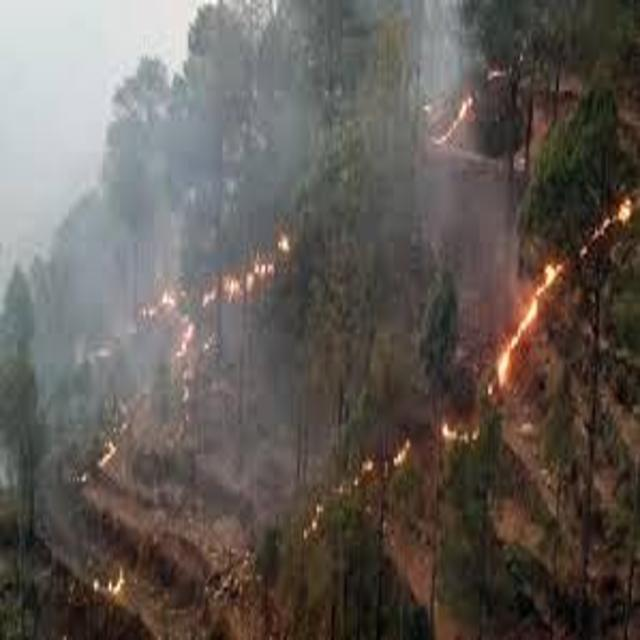Fire: (132, 232, 306, 410), (490, 198, 640, 398), (296, 404, 481, 546), (426, 68, 522, 156)
Smoke: (2, 228, 130, 462), (106, 95, 307, 235)
